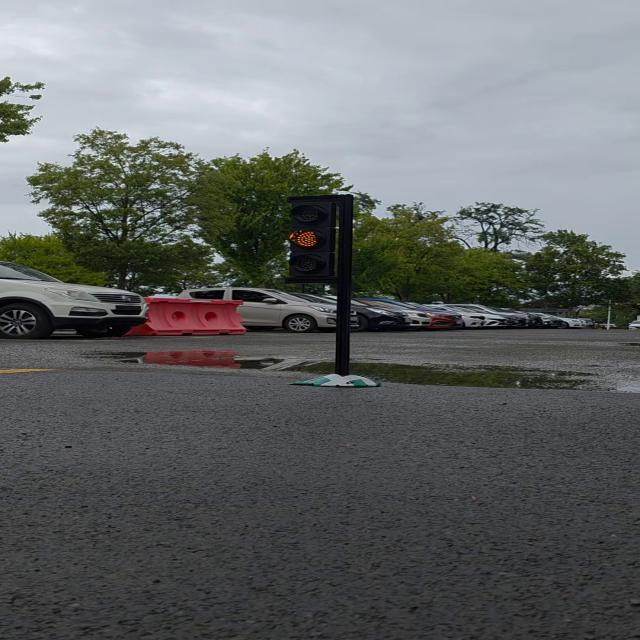yellow: (288, 194, 352, 286)
